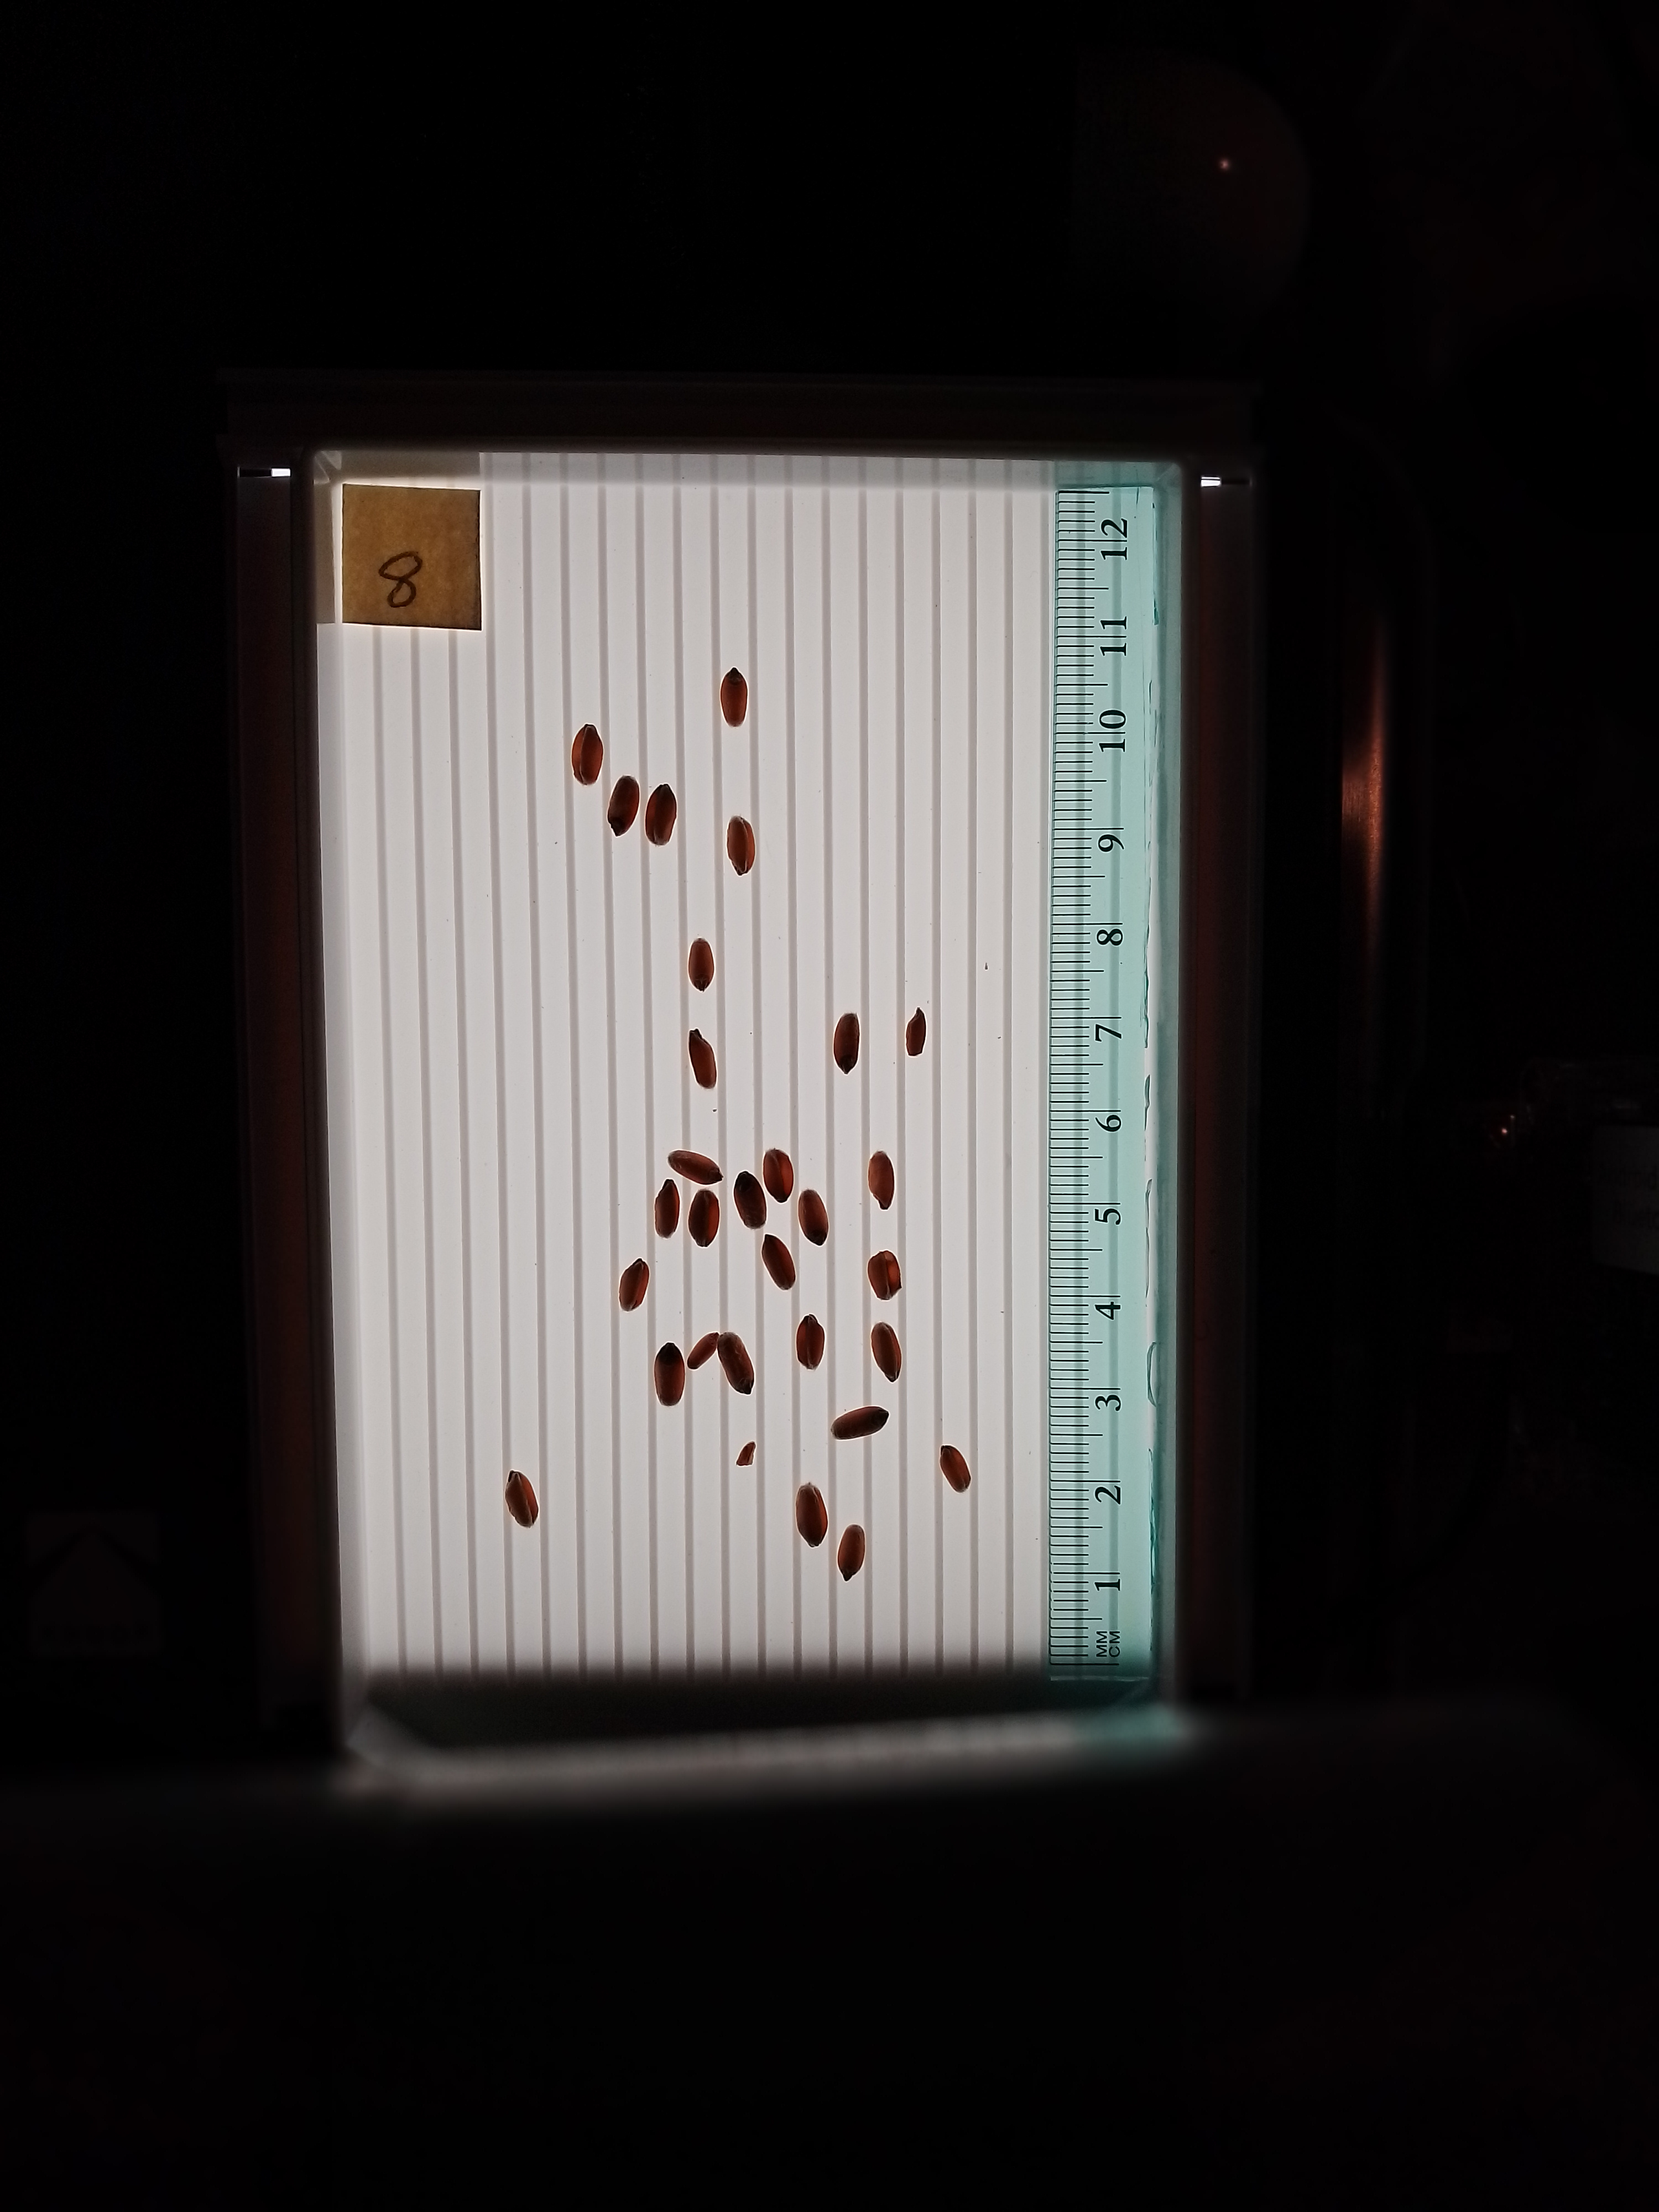seed mask: (718, 1332, 755, 1393), (572, 726, 605, 786), (870, 1324, 903, 1381), (833, 1406, 887, 1440), (653, 1346, 685, 1406), (796, 1486, 828, 1545), (645, 786, 676, 845), (505, 1472, 538, 1526), (734, 1174, 767, 1228), (669, 1150, 720, 1184), (608, 779, 640, 833), (688, 1191, 720, 1245), (688, 1033, 718, 1089), (763, 1237, 795, 1289), (727, 819, 755, 874), (720, 671, 748, 726), (836, 1526, 866, 1578), (796, 1317, 826, 1369), (619, 1261, 648, 1312), (870, 1252, 901, 1299), (939, 1446, 971, 1493), (800, 1191, 828, 1244), (833, 1015, 859, 1071), (653, 1183, 680, 1237), (765, 1150, 793, 1200), (870, 1155, 894, 1207), (688, 941, 714, 989), (688, 1332, 718, 1369), (906, 1012, 927, 1055), (737, 1444, 755, 1467)
